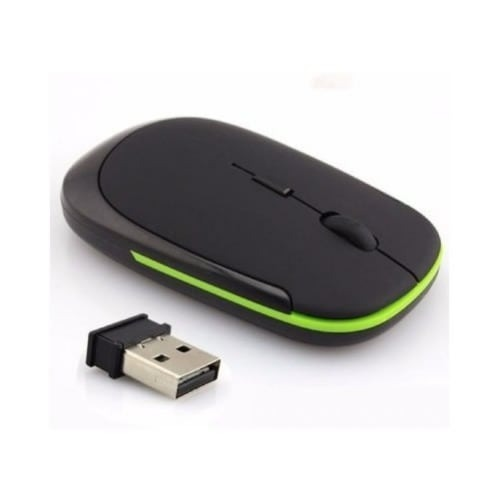mouse: (45, 94, 454, 364)
